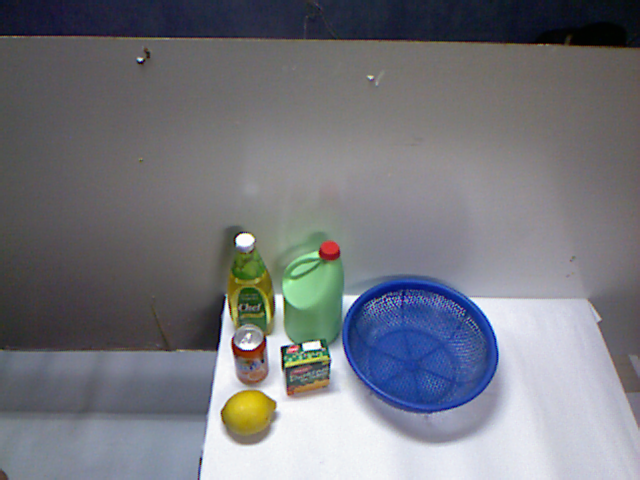colador: (344, 284, 506, 420)
crema: (306, 349, 356, 412)
limon: (251, 358, 301, 411)
mostaza: (212, 328, 253, 392)
papas: (296, 242, 357, 344)
te: (235, 287, 300, 343)
